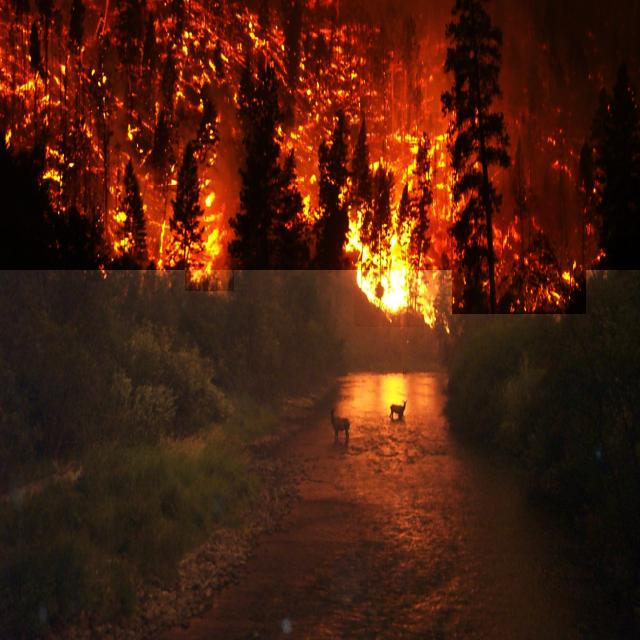Fire: (452, 213, 586, 314), (0, 13, 75, 182), (80, 0, 164, 141), (167, 0, 261, 122), (284, 28, 368, 162), (354, 213, 437, 327), (391, 114, 452, 210), (100, 170, 151, 258), (185, 203, 234, 291)
Smoke: (0, 0, 640, 270)
